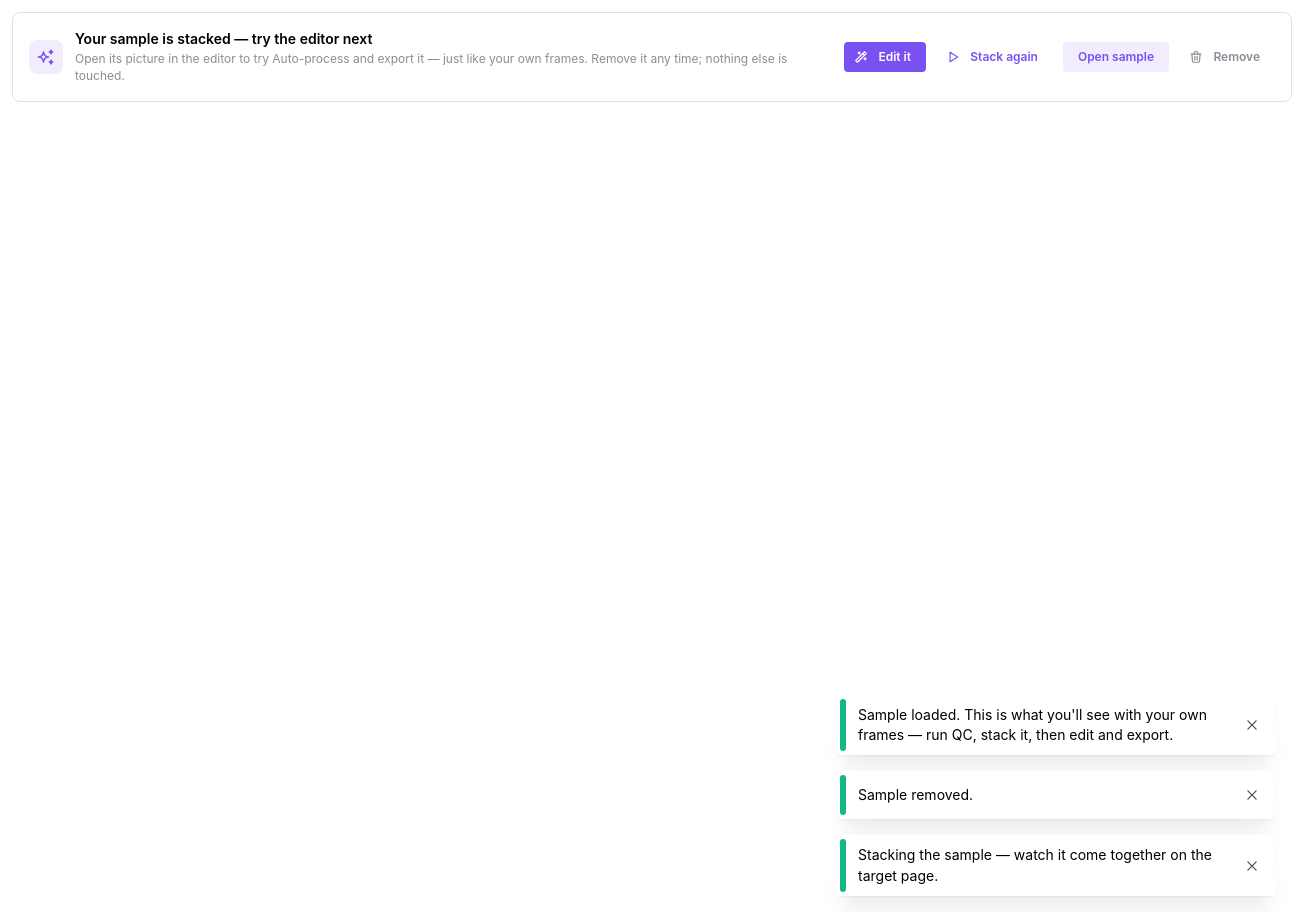
SampleImageCard › points a stacked sample at the editor instead of stacking it again
The image size is (1292, 912).
Expected: the text "Your sample is stacked — try the editor next" is shown, [75,30,372,47]
Expected: the button "Stack again" is shown, [936,42,1053,72]
Click the button "Edit it": (885, 57) [844,42,926,72]
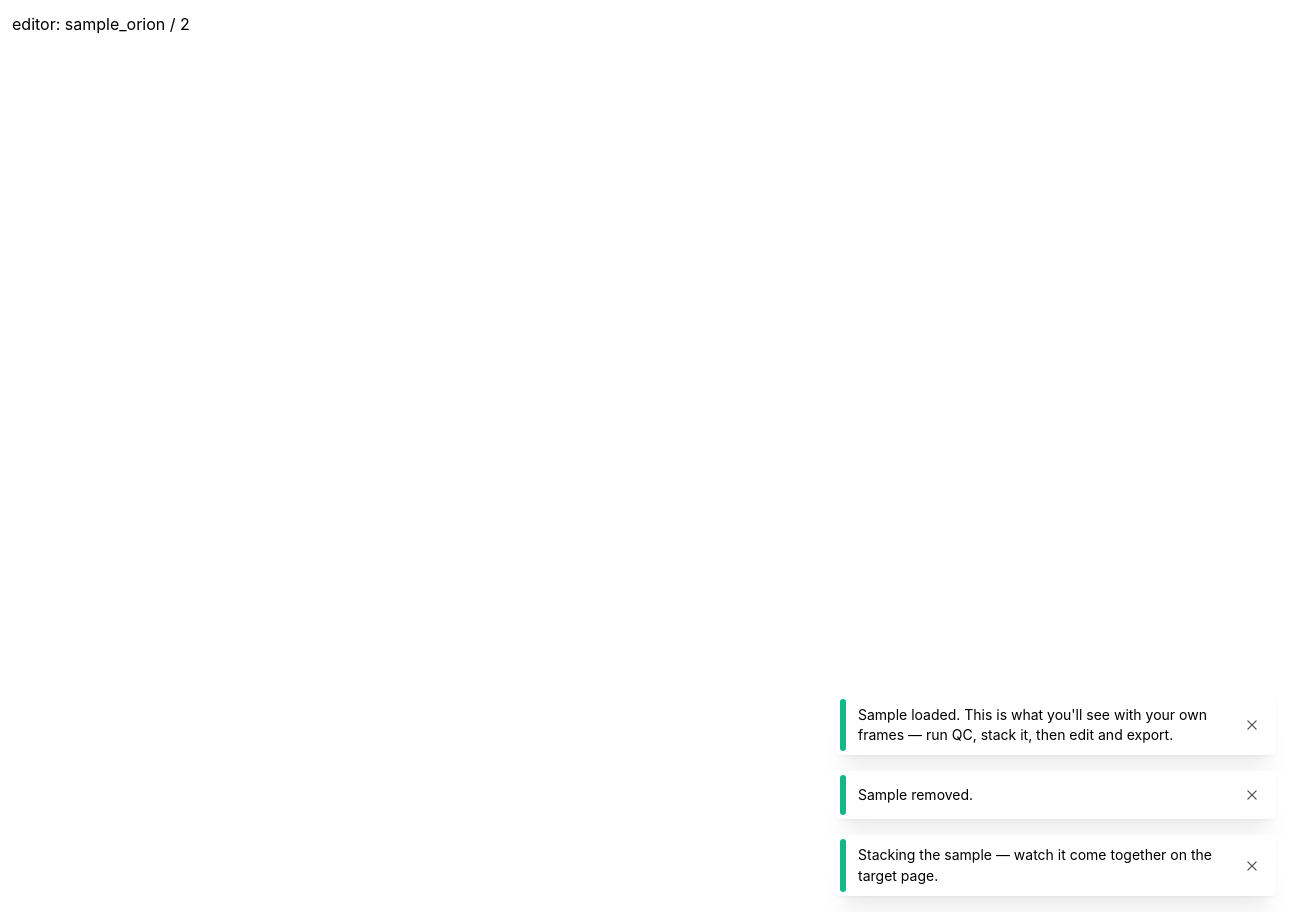
Expected: the text "editor: sample_orion / 2" is shown, [12,14,190,34]
